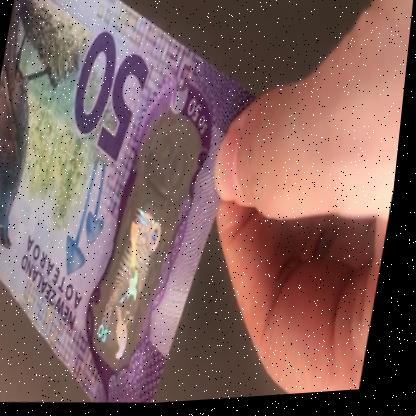50B: (97, 125, 200, 371)
